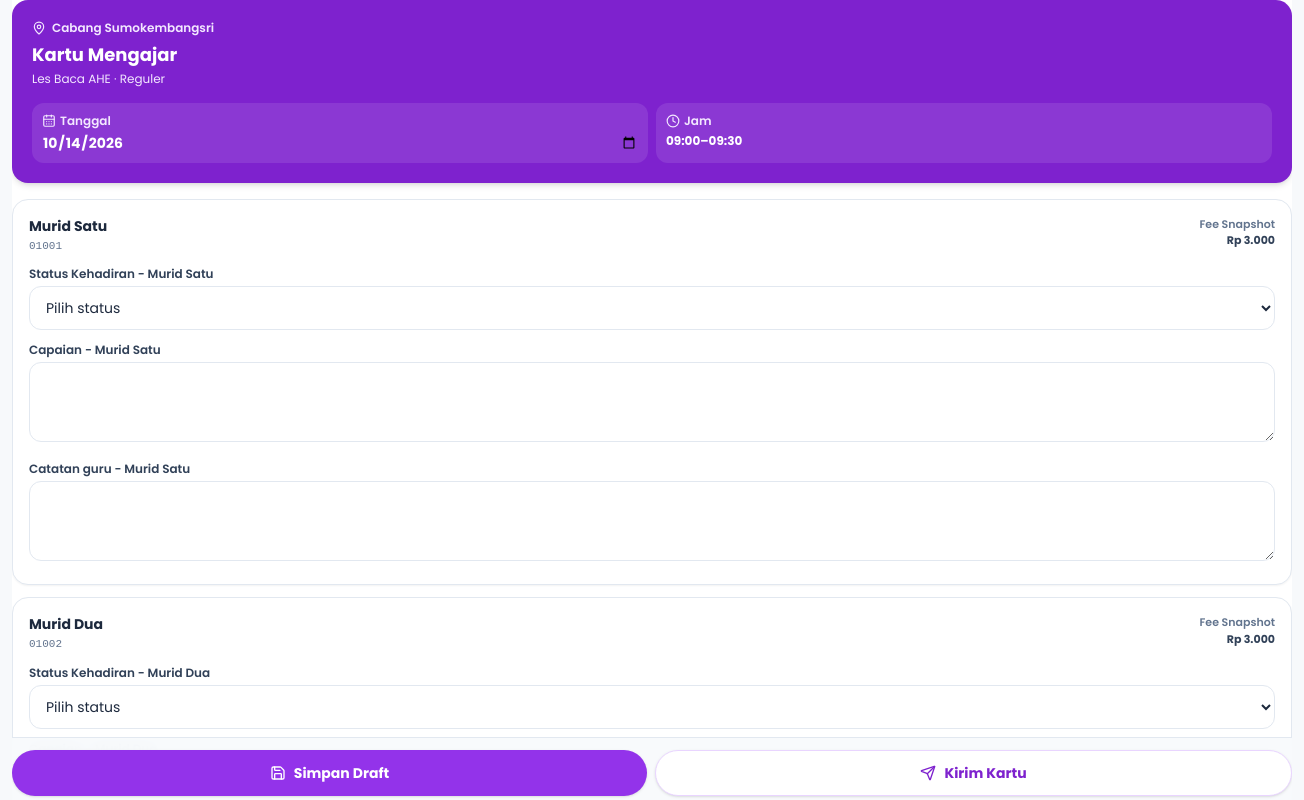
TeachingLogForm › keeps entered notes when draft save returns an error
Type "Latihan ulang besok" into the text box labelled "Catatan guru - Murid Satu" at (652, 521), box [29,481,1275,561]
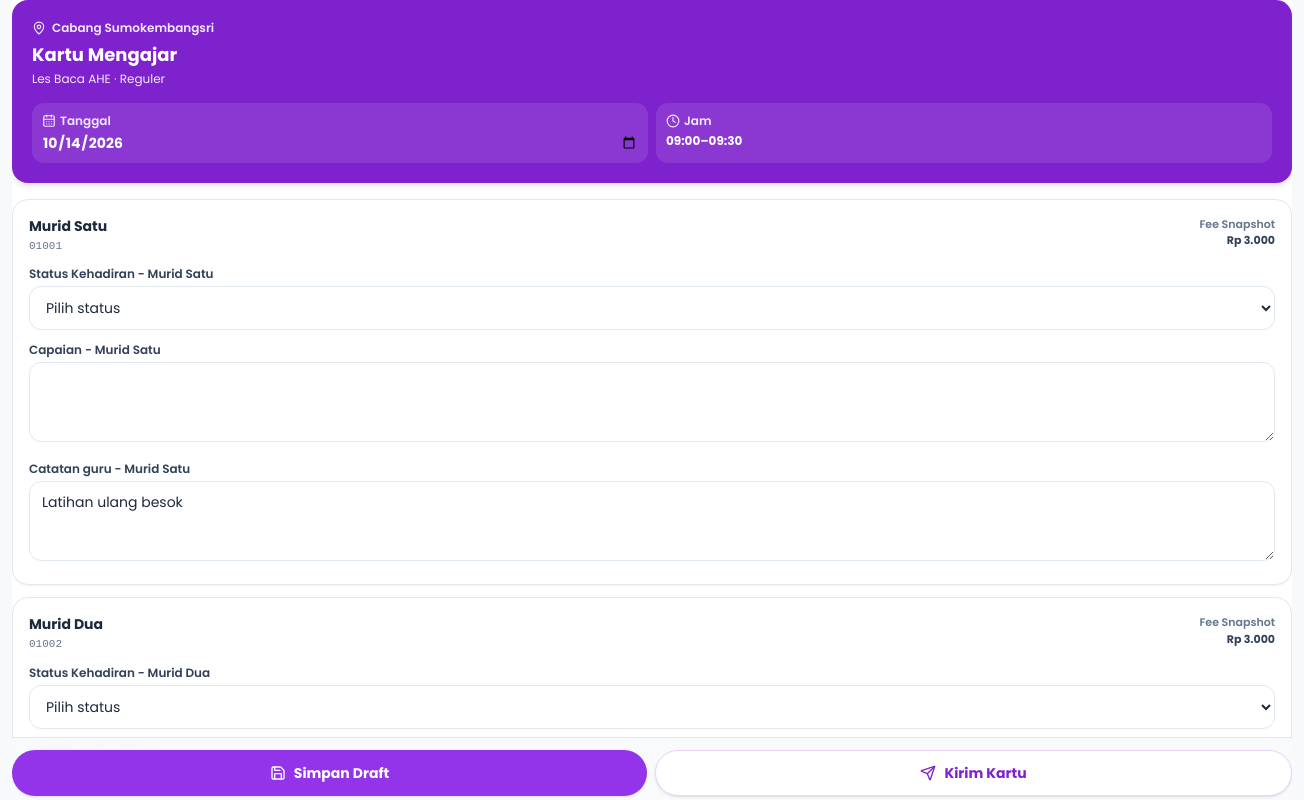
Click the button "Simpan Draft" at (330, 773), box [12,750,647,796]
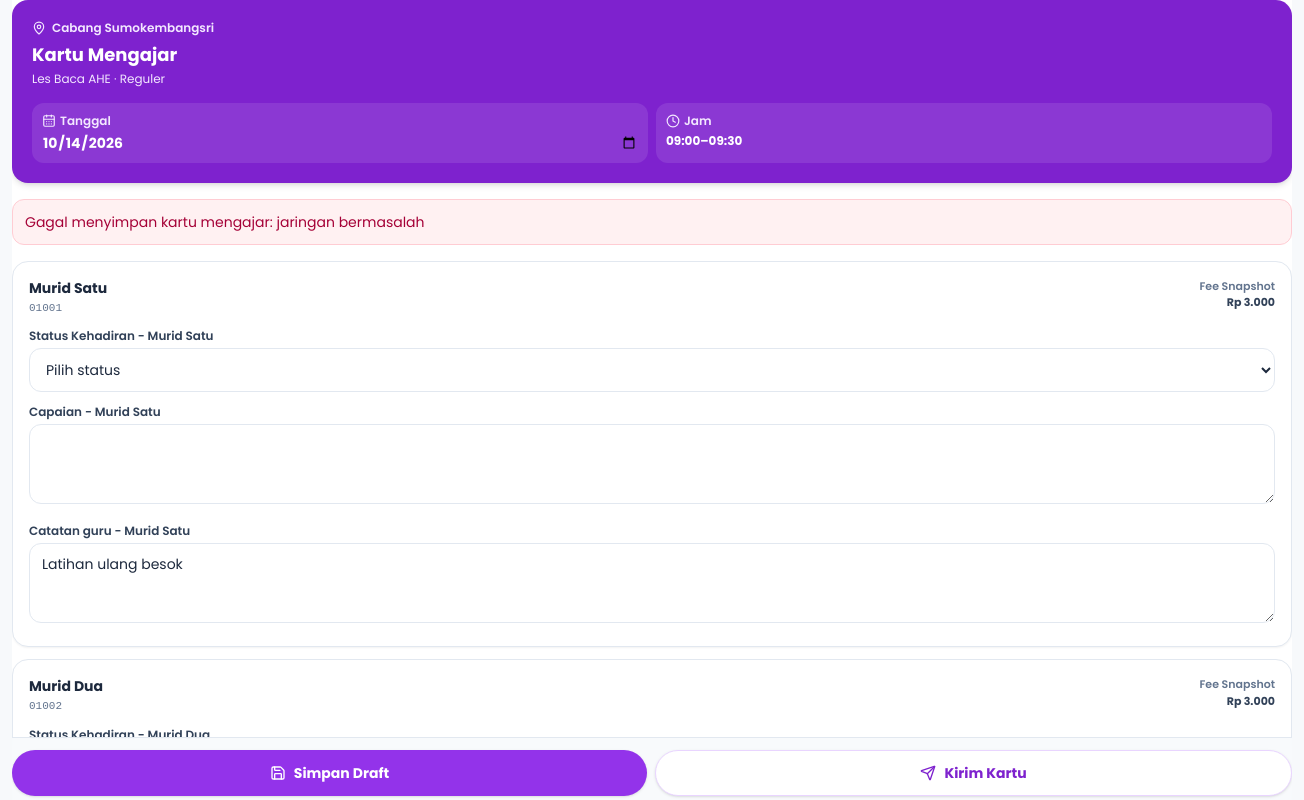
expect the text "Gagal menyimpan kartu mengajar: jaringan bermasalah" is shown: met, box [12,198,1292,244]
